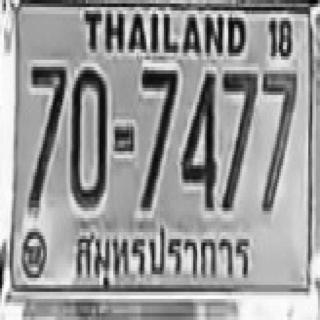N00: (68, 65, 105, 206)
N04: (180, 69, 214, 206)
N07: (28, 63, 65, 208), (260, 67, 296, 211), (140, 67, 176, 208), (220, 67, 256, 208)
P57: (71, 221, 252, 290)
